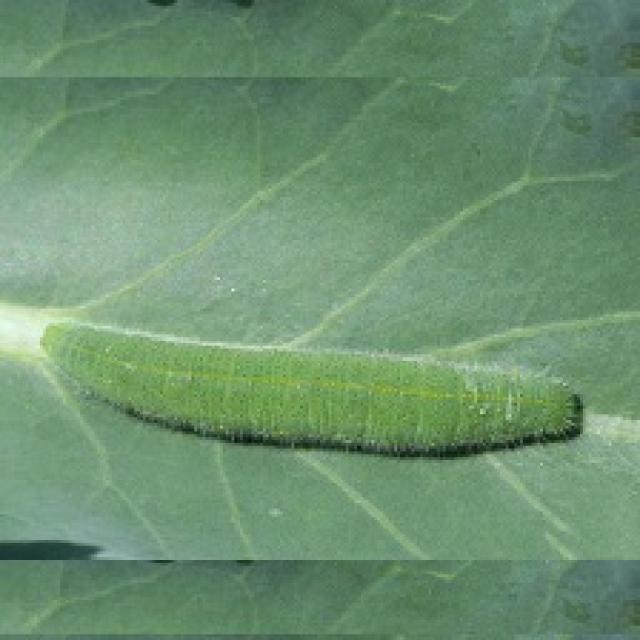Cabbage-worm: (31, 303, 604, 482)
